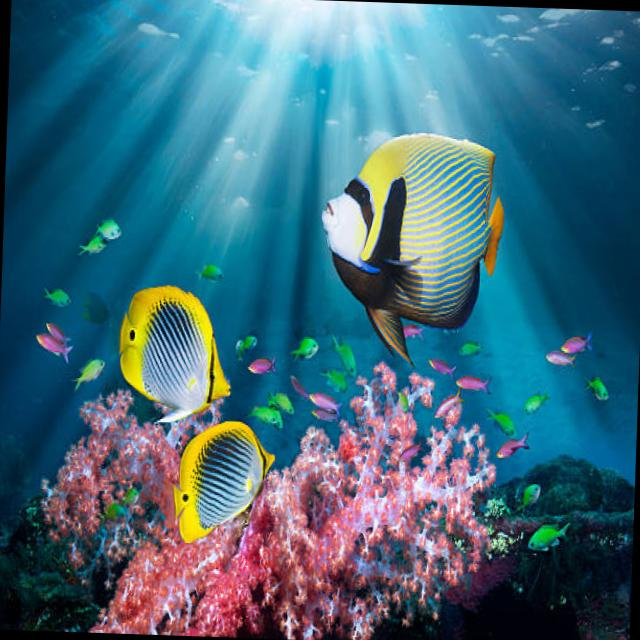ButterflyFish: (316, 130, 504, 367), (117, 284, 236, 429), (172, 420, 277, 546)
